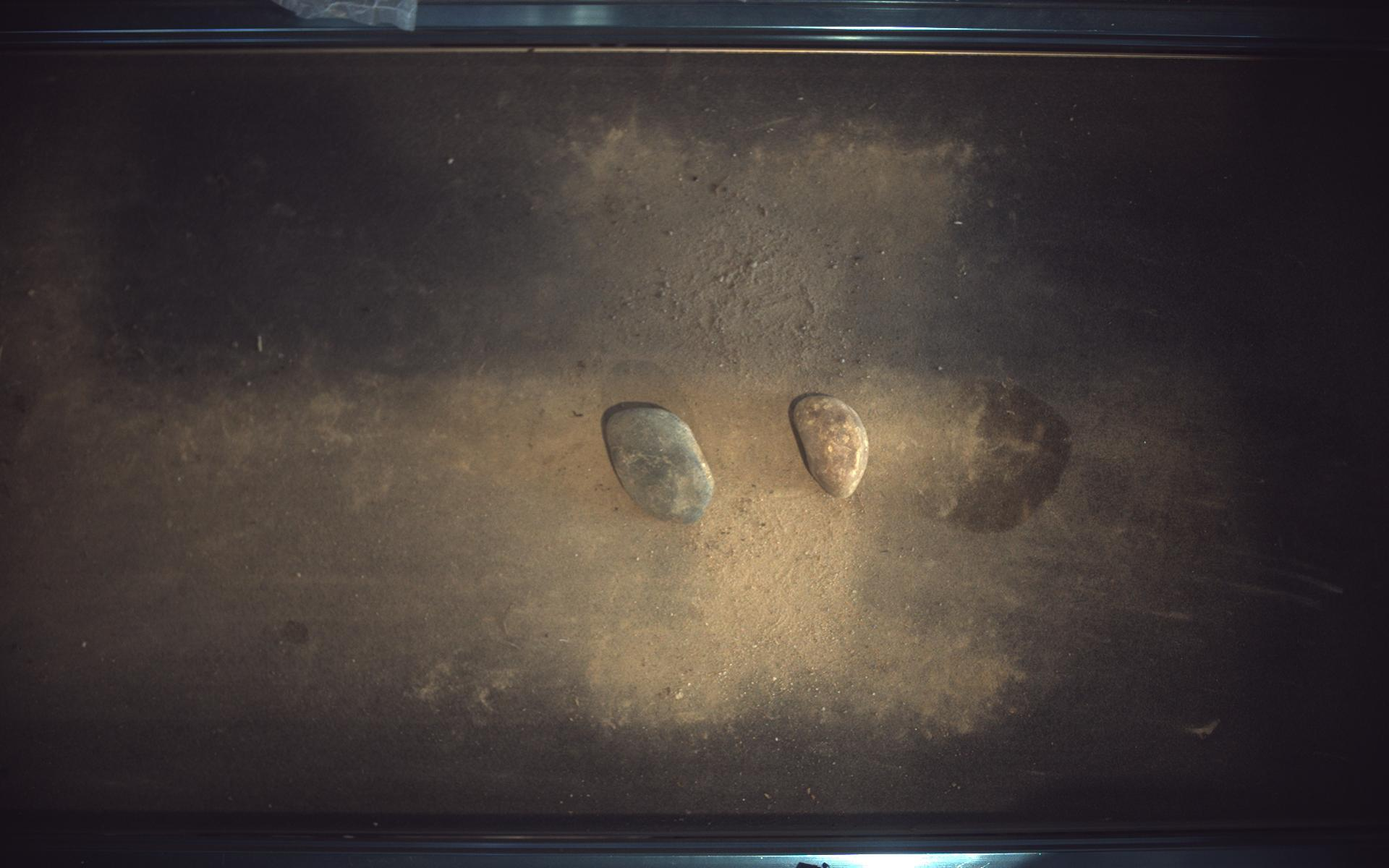stone: (602, 401, 715, 524), (793, 394, 870, 499)
